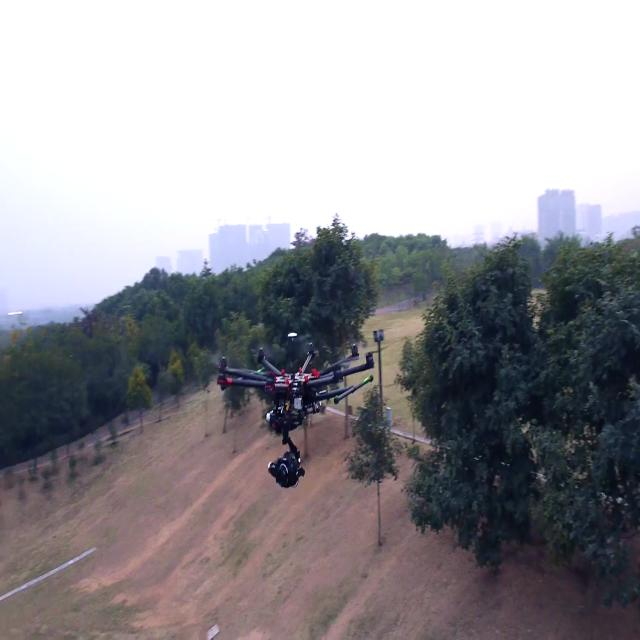drone: (197, 324, 382, 489)
